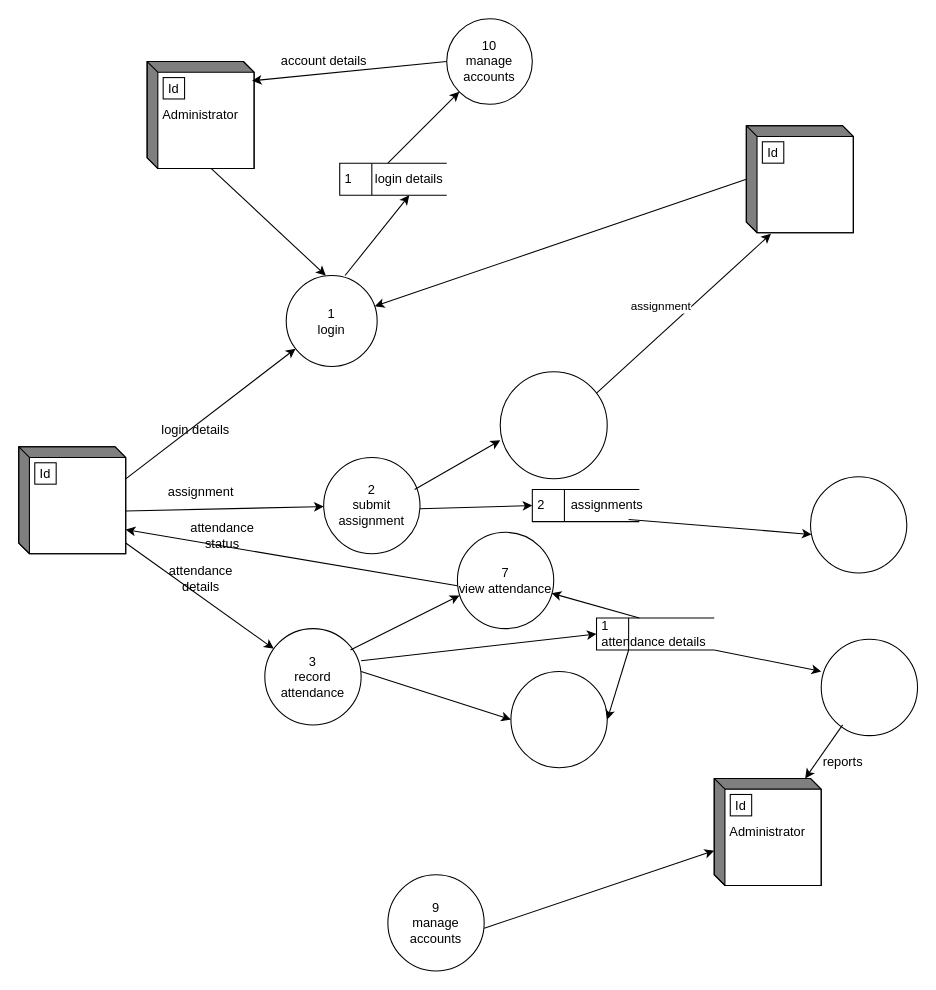
This 936x990 diagram has some shape labels left out. Each missing label, with the centre of its shape:
"4 view submitted assignment" belongs at point 553,425.
"5 verify attendance" belongs at point 558,719.
"6 Generate deadlines" belongs at point 858,524.
"8 Generate reports" belongs at point 869,687.
"Lecturer" belongs at point 799,179.
"Student" belongs at point 72,500.
